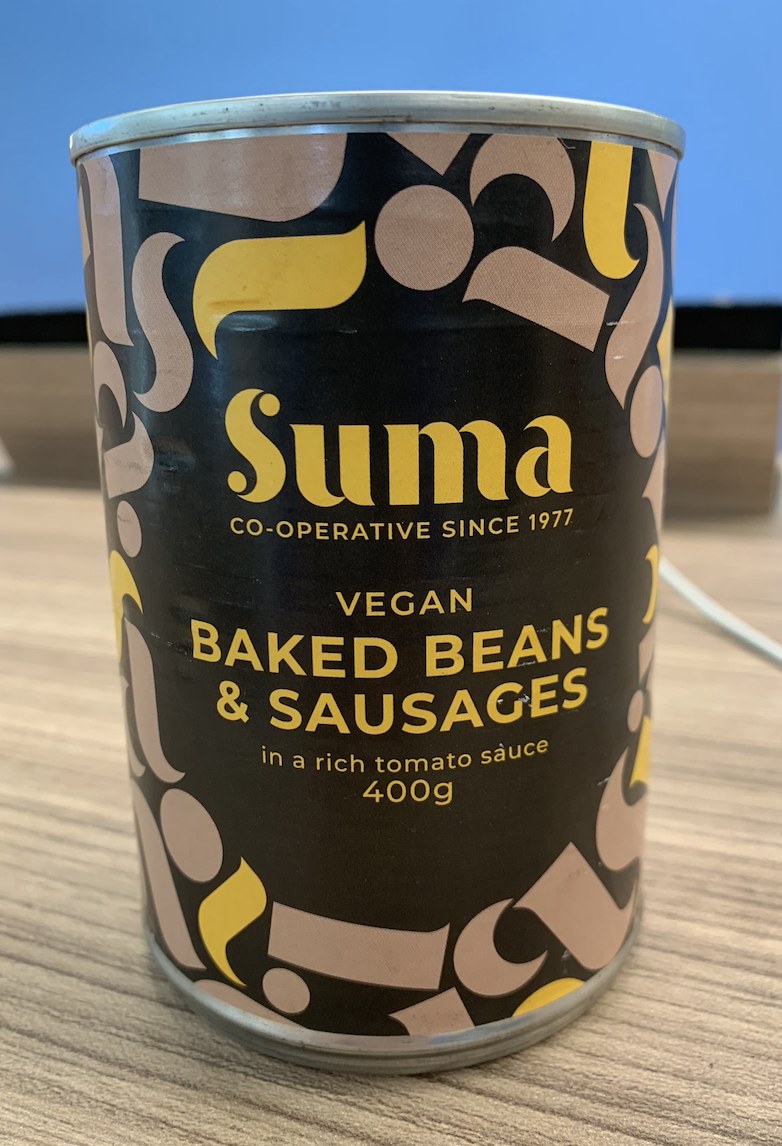Baked beans_400-499g: (112, 165, 646, 999)
